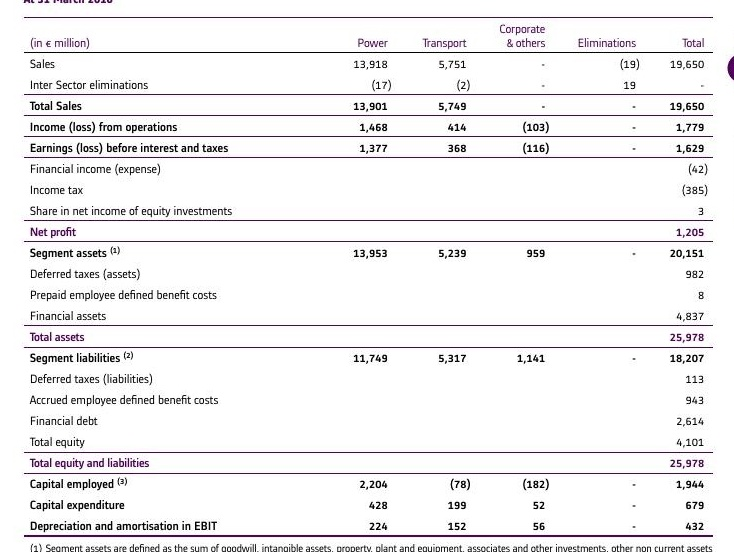table: (0, 0, 734, 552)
